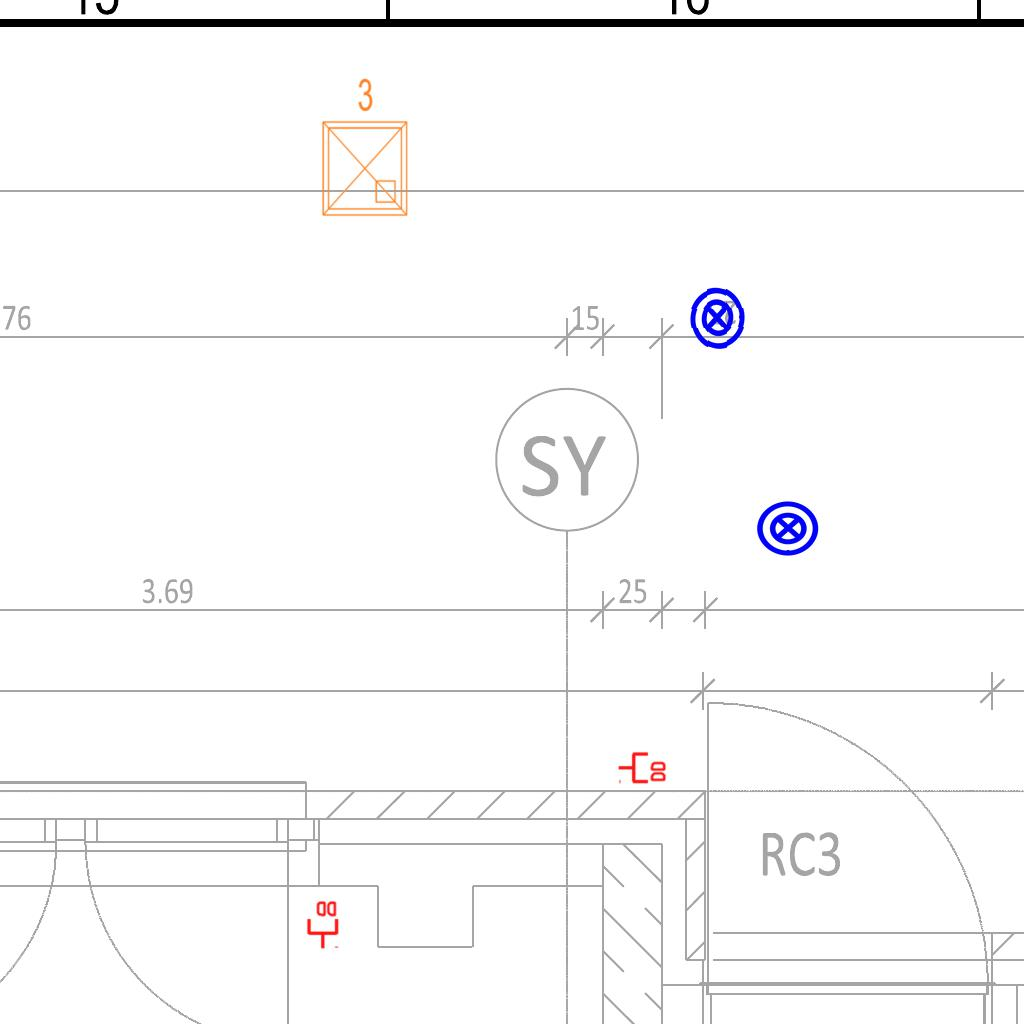Datenanschluss_zweifach: (305, 899, 339, 950), (617, 750, 668, 784)
Einbaudownlights_LED_Konferenzraeume: (311, 73, 415, 223)
Taster_beleuchtet: (682, 283, 752, 353), (755, 495, 821, 561)
